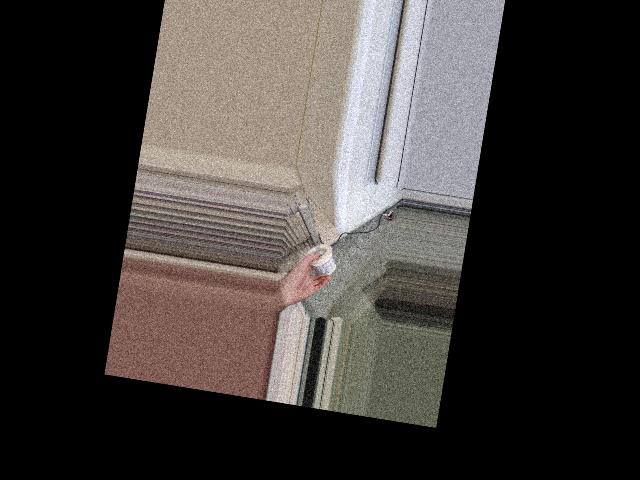cotage: (304, 242, 339, 280)
